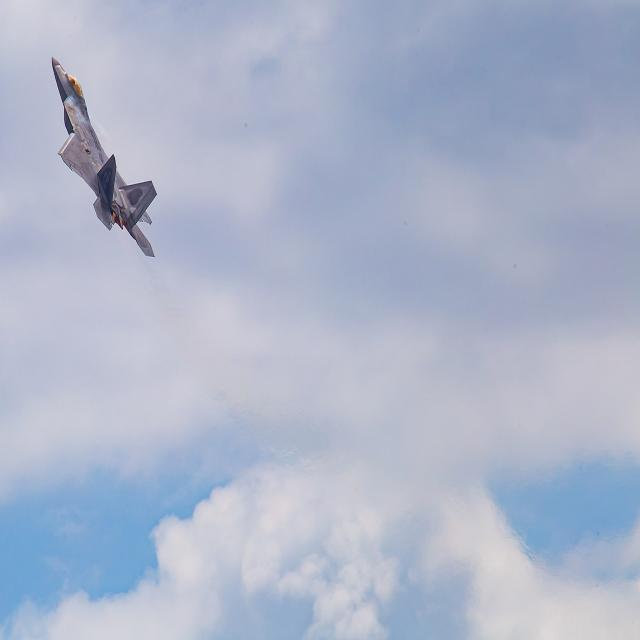MIL_Plane: (25, 55, 135, 258)
